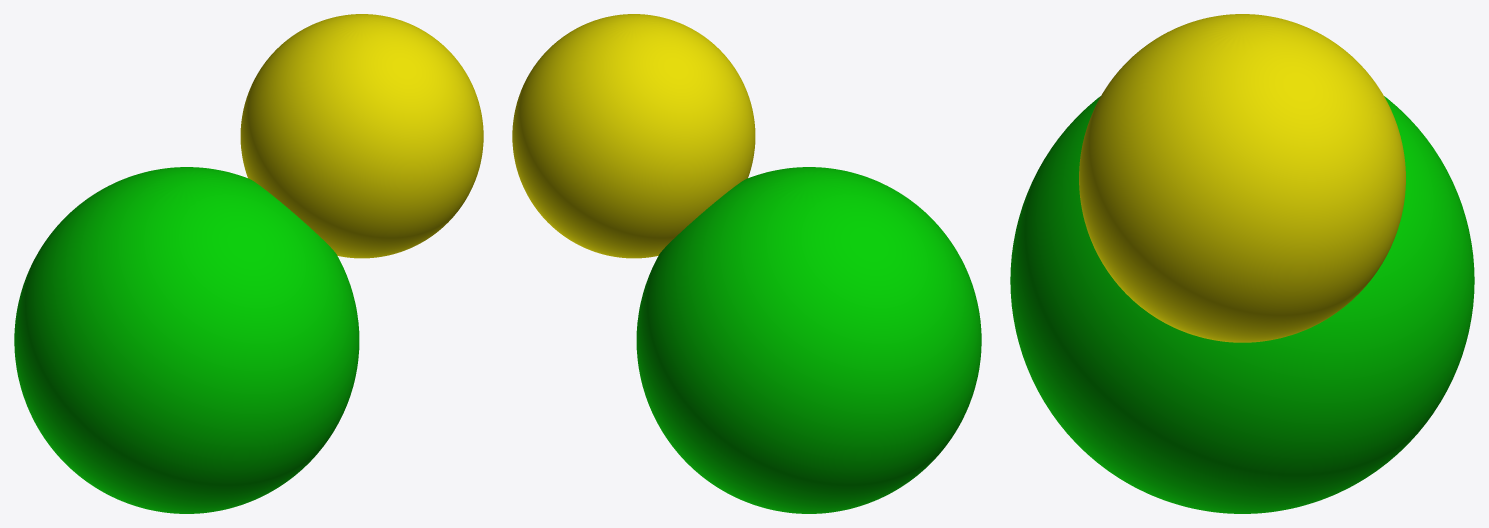
Rendered from balls.glb.
3 renders of one model, left to right at view 1: azimuth 30°, elevation 25°; view 2: azimuth 150°, elevation 25°; view 3: azimuth 270°, elevation 25°, orthographic. The views are drawn at different scales.
Visible parts, largest first — view 1: Sphere, Sphere.001; view 2: Sphere, Sphere.001; view 3: Sphere, Sphere.001.
Boxes of the visible parts, x1,y1,x2,y2 form: Sphere: (14, 167, 359, 513); Sphere.001: (240, 14, 483, 258); Sphere: (636, 167, 981, 513); Sphere.001: (512, 14, 755, 258); Sphere: (1010, 96, 1474, 513); Sphere.001: (1079, 14, 1405, 342).
Size of what is drawn, in the model's own units: 2.33 by 2.23 by 1.62.
